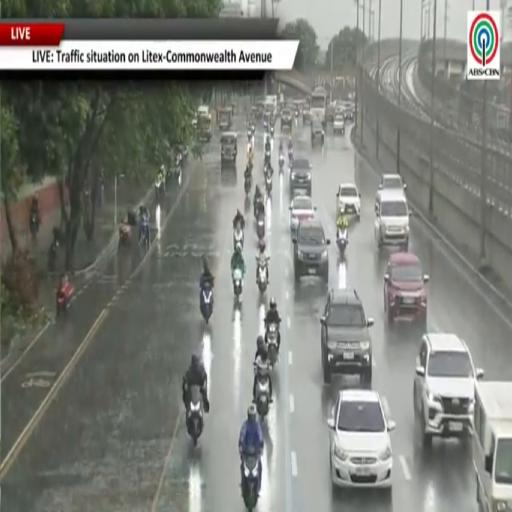bus: (310, 87, 327, 122)
car: (414, 333, 483, 446), (327, 390, 395, 492), (321, 288, 374, 386), (384, 252, 428, 326), (292, 218, 330, 283), (375, 190, 411, 250), (289, 196, 316, 234), (376, 173, 406, 205), (290, 157, 312, 196), (337, 184, 360, 220), (311, 118, 324, 146), (281, 107, 293, 131), (333, 114, 345, 135), (326, 101, 336, 123), (345, 104, 354, 122), (303, 103, 311, 123), (335, 104, 345, 118)
jeepney: (221, 132, 237, 165), (218, 108, 232, 131)
motorcycle: (242, 451, 259, 511), (186, 386, 203, 445), (255, 368, 269, 420), (265, 324, 279, 366), (56, 282, 73, 316), (200, 281, 213, 324), (256, 258, 267, 293), (48, 239, 59, 271), (119, 223, 131, 247), (337, 229, 348, 255), (233, 268, 242, 298), (233, 226, 244, 250), (140, 220, 149, 249), (155, 176, 164, 202), (256, 214, 265, 240), (30, 212, 38, 237), (254, 197, 264, 216), (265, 172, 272, 194), (245, 176, 251, 195), (279, 154, 284, 172), (264, 150, 270, 165), (288, 148, 293, 165), (248, 158, 253, 172), (270, 124, 274, 137), (264, 121, 268, 133)
truck: (472, 381, 511, 511), (265, 95, 277, 116)
